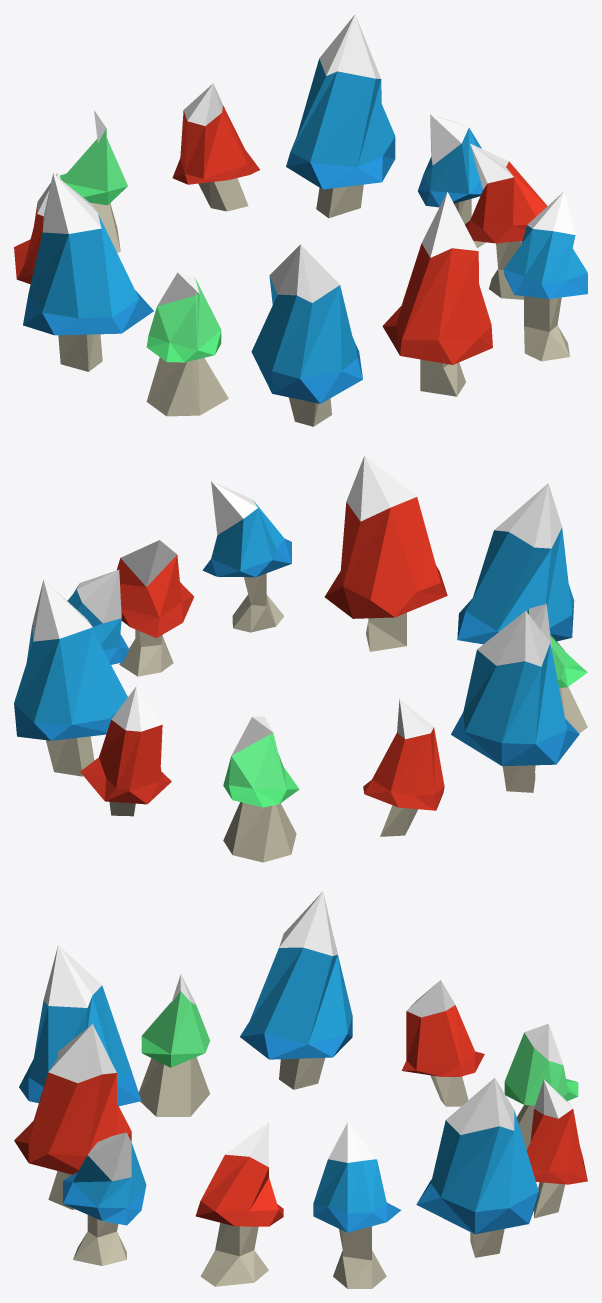
Rendered from fairy-ring-poh.gltf.
The picture shows the model from 3 angles, top to bottom: view 1: azimuth 30°, elevation 25°; view 2: azimuth 150°, elevation 25°; view 3: azimuth 270°, elevation 25°; orthographic projection. The views are drawn at different scales.
Bounding box in the file's own units: 114 × 41 × 117.
Materials: 1 (1 with a texture image).
